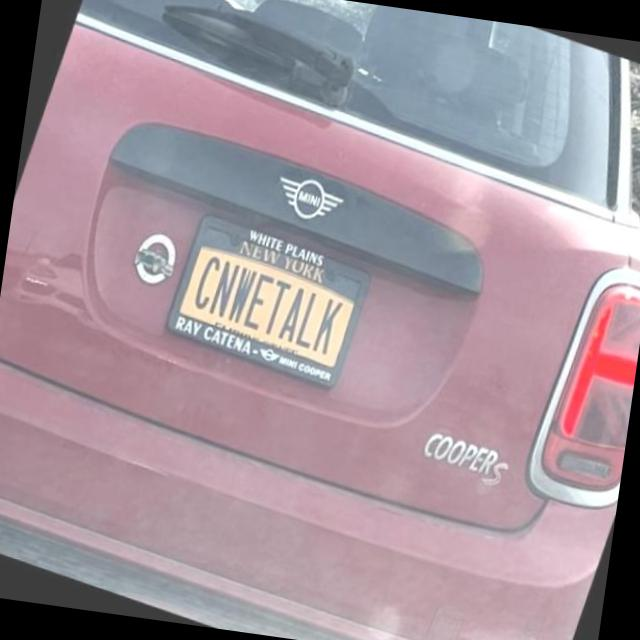LicensePlate: (162, 210, 373, 388)
